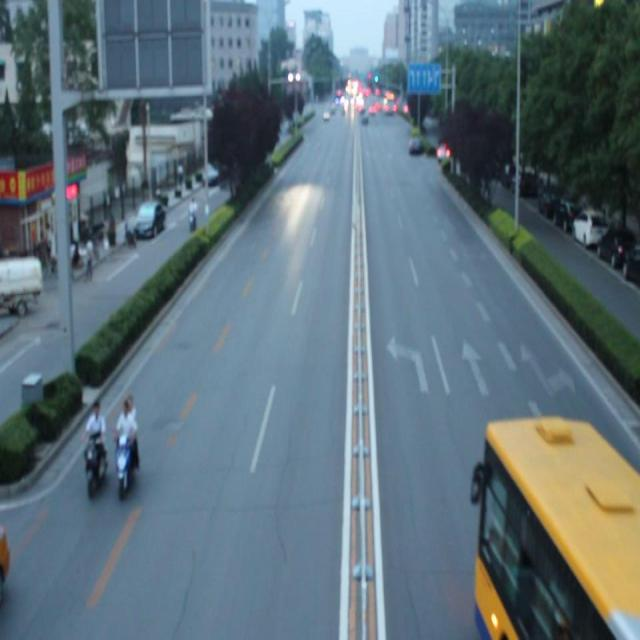van: (474, 418, 640, 640)
